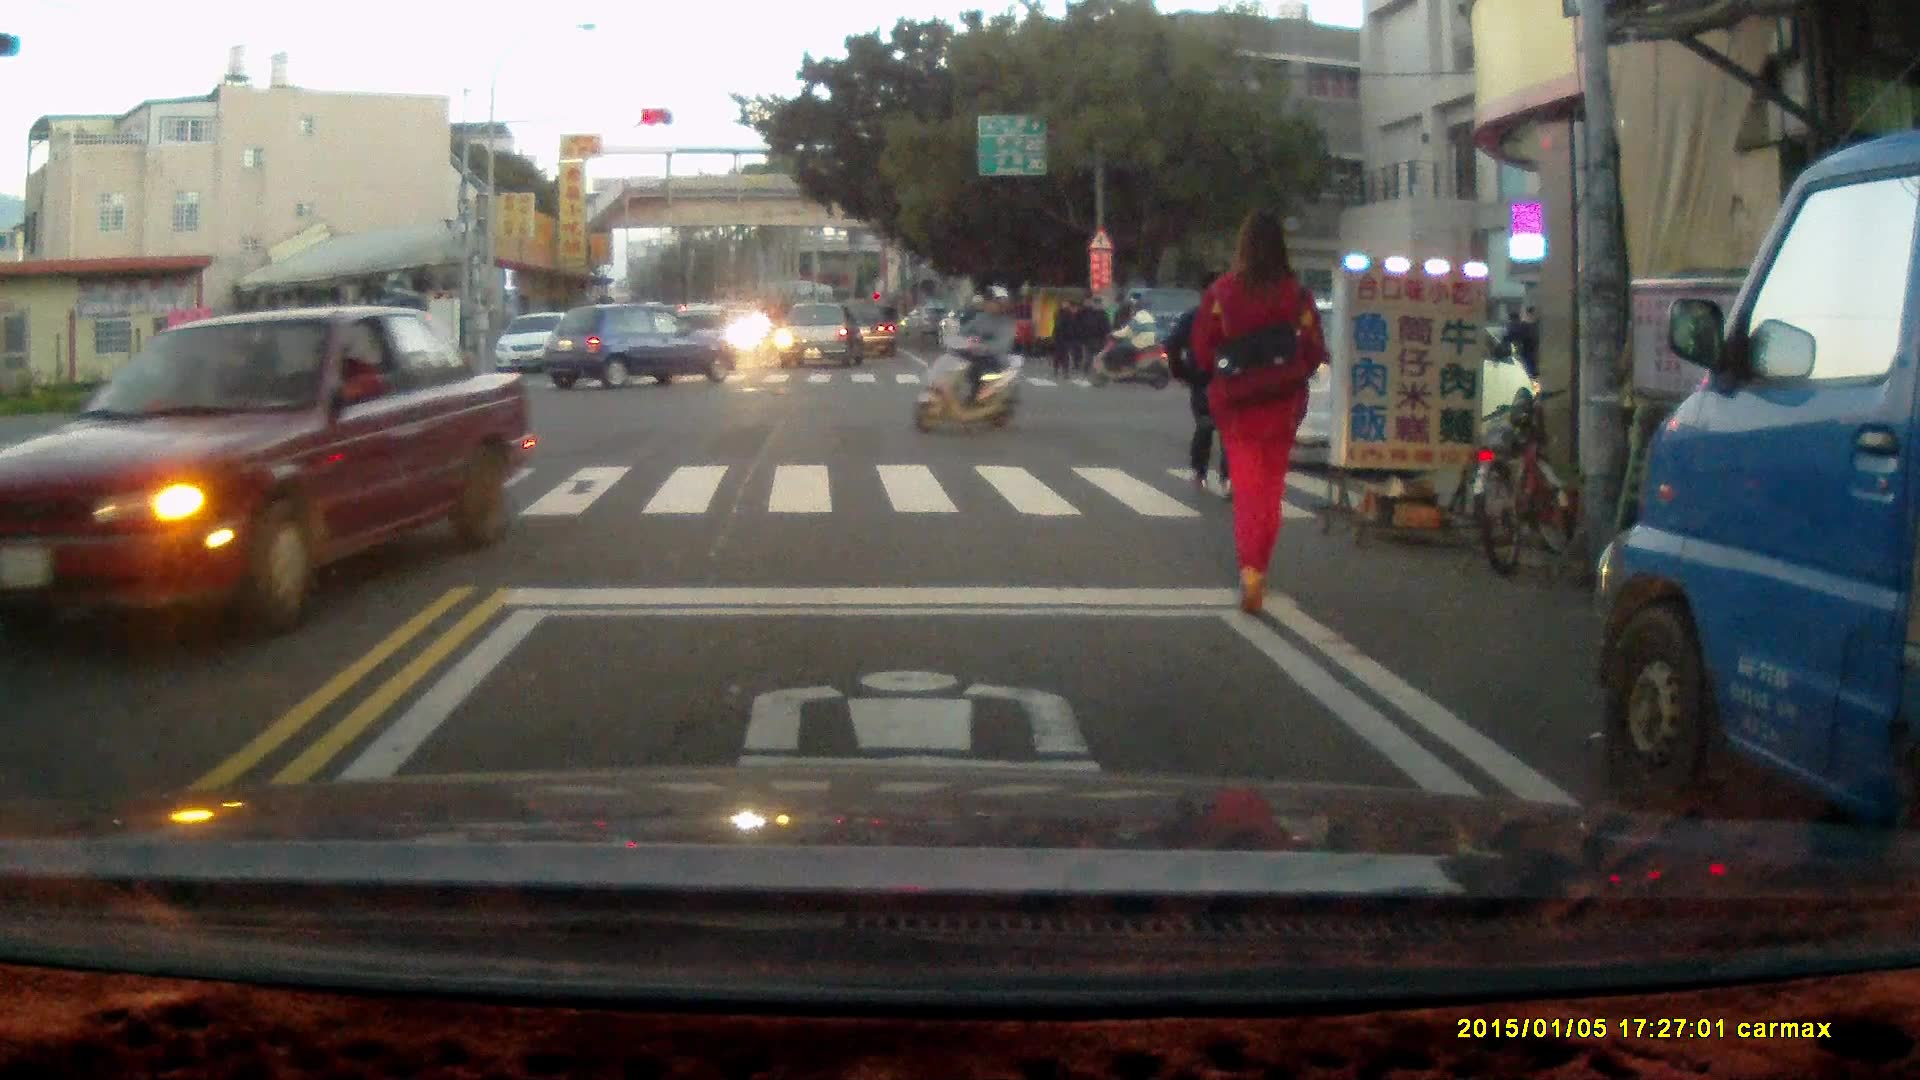pedestrian: (1190, 205, 1332, 612), (1164, 258, 1255, 498), (1509, 298, 1545, 410), (1072, 290, 1104, 381), (1048, 293, 1078, 381)
rider: (910, 288, 1026, 435), (1089, 299, 1175, 386)
vehicle: (1598, 132, 1920, 874), (1, 306, 541, 644), (1233, 296, 1533, 459), (547, 305, 742, 393), (778, 300, 868, 376), (830, 302, 902, 362)
